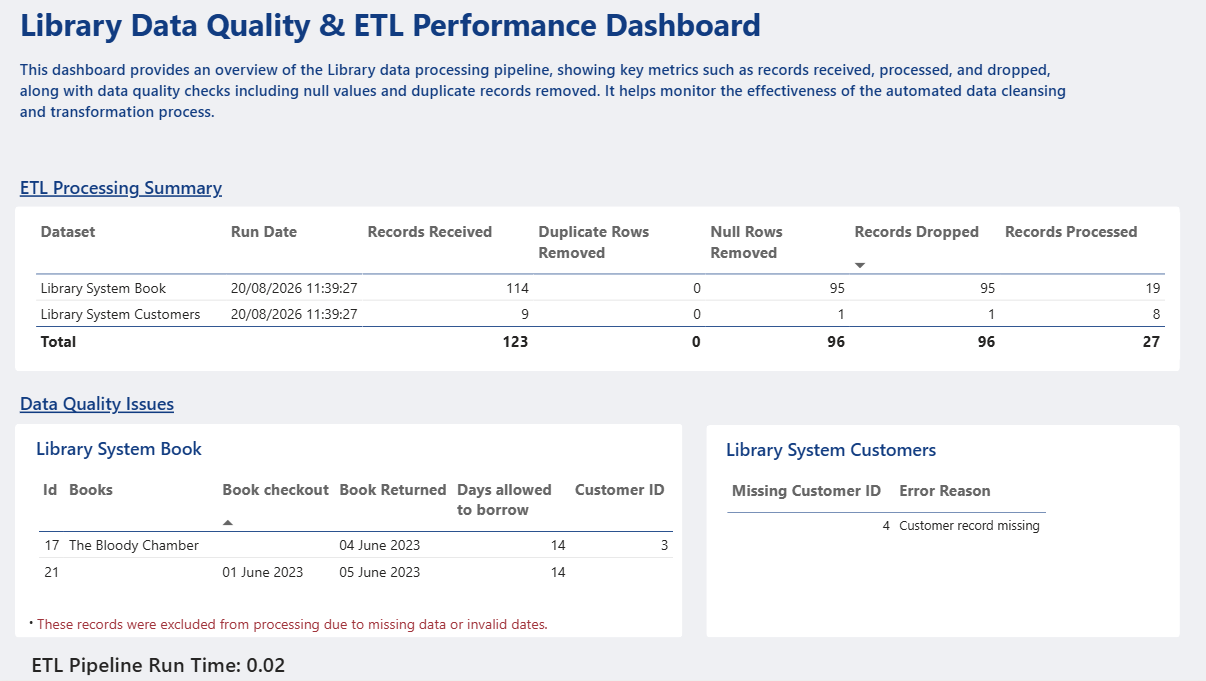

The dashboard page shown, as its layout file describes it:
{"tool":"powerbi","page":{"name":"Page 1","canvas":[1280,720],"ordinal":0},"visuals":[{"type":"textbox","box":[26.1,9.1,1235.9,58.7],"z":0},{"type":"shape","box":[26.1,225.8,1216.3,172.3],"z":1},{"type":"textbox","box":[26.1,66.6,1121,86.1],"z":2},{"type":"tableEx","fields":{"Values":["03_ETL_Metrics.Dataset","03_ETL_Metrics.Run Date","Sum(03_ETL_Metrics.Records Received)","Sum(03_ETL_Metrics.Duplicate Rows Removed)","Sum(03_ETL_Metrics.Null Rows Removed)","Sum(03_ETL_Metrics.Records Dropped)","Sum(03_ETL_Metrics.Records Processed)"]},"box":[42.1,232.3,1200.7,154],"z":3},{"type":"textbox","box":[26.1,187.9,1121,49.6],"z":4},{"type":"shape","box":[26.1,453.1,696.9,212.7],"z":5},{"type":"tableEx","fields":{"Values":["03_Library Systembook_ERROR_LOG.Id","03_Library Systembook_ERROR_LOG.Books","03_Library Systembook_ERROR_LOG.Book checkout","03_Library Systembook_ERROR_LOG.Book Returned","03_Library Systembook_ERROR_LOG.Days allowed to borrow","03_Library Systembook_ERROR_LOG.Customer ID"]},"box":[44.7,501.1,676,154],"z":6},{"type":"textbox","box":[43.4,460.7,676,49.6],"z":7},{"type":"shape","box":[747.8,454.2,494.6,212.7],"z":8},{"type":"tableEx","fields":{"Values":["03_Library SystemCustomers_ERROR_LOG.Missing Customer ID","03_Library SystemCustomers_ERROR_LOG.Error Reason"]},"box":[763.5,502.7,473.7,154],"z":9},{"type":"textbox","box":[763.8,462,473.7,49.6],"z":10},{"type":"textbox","box":[26.1,413.7,1121,49.6],"z":11},{"type":"cardVisual","fields":{"Data":["03_ETL_Metrics.pipeline_runtime"]},"box":[26.1,664.3,382.4,56.1],"z":12}]}

Visuals, with their boxes in screenshot pixels (x1, y1, x2, y2), scaled from the page's 1280x720 canvas onto the 1206x681 screenshot:
textbox: [left=25, top=9, right=1189, bottom=64]
shape: [left=25, top=214, right=1171, bottom=377]
textbox: [left=25, top=63, right=1081, bottom=144]
tableEx - 03_ETL_Metrics.Dataset x 03_ETL_Metrics.Run Date: [left=40, top=220, right=1171, bottom=365]
textbox: [left=25, top=178, right=1081, bottom=225]
shape: [left=25, top=429, right=681, bottom=630]
tableEx - 03_Library Systembook_ERROR_LOG.Id x 03_Library Systembook_ERROR_LOG.Books: [left=42, top=474, right=679, bottom=620]
textbox: [left=41, top=436, right=678, bottom=483]
shape: [left=705, top=430, right=1171, bottom=631]
tableEx - 03_Library SystemCustomers_ERROR_LOG.Missing Customer ID x 03_Library SystemCustomers_ERROR_LOG.Error Reason: [left=719, top=475, right=1166, bottom=621]
textbox: [left=720, top=437, right=1166, bottom=484]
textbox: [left=25, top=391, right=1081, bottom=438]
cardVisual - 03_ETL_Metrics.pipeline_runtime: [left=25, top=628, right=385, bottom=680]
